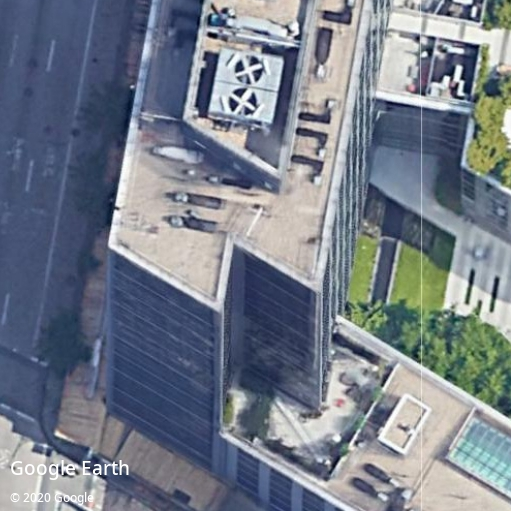Vent: (234, 55, 264, 84), (228, 87, 257, 115)
